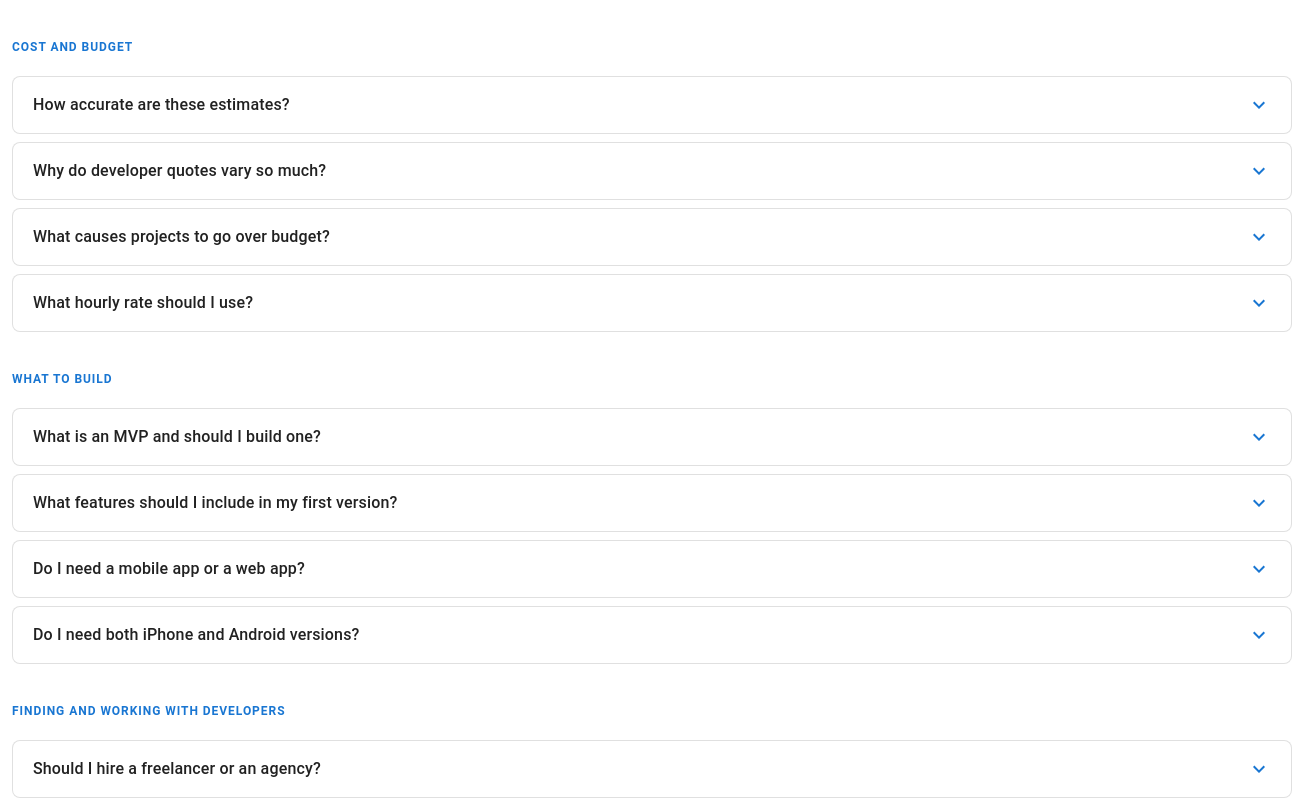
FaqContent › accordion expand behavior › clicking an expanded accordion summary button collapses it
Expand it
Step 1. Click the button "How accurate are these estimates?" → click(161, 104), box [13,77,1291,133]
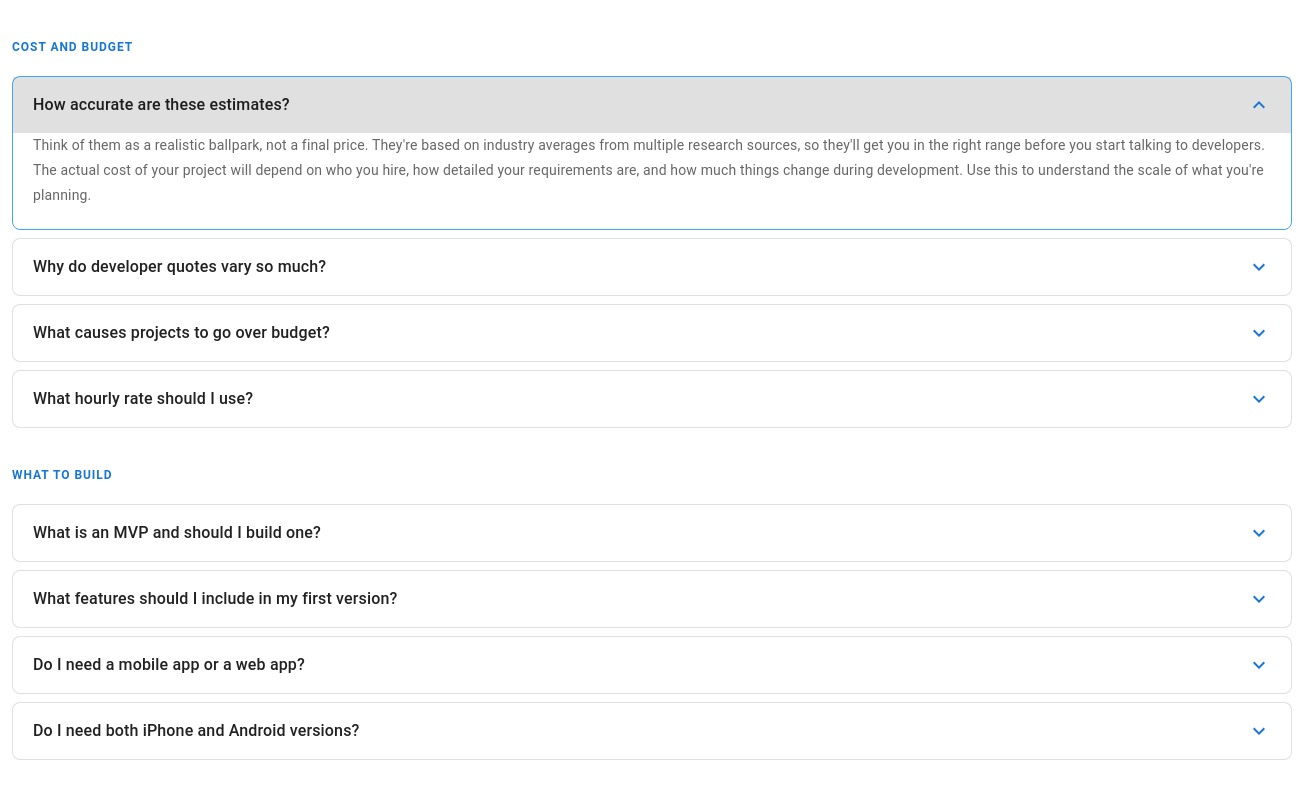
Check: the button "How accurate are these estimates?" is expanded
Collapse it
Step 2. Click the button "How accurate are these estimates?" → click(161, 104), box [13,77,1291,133]
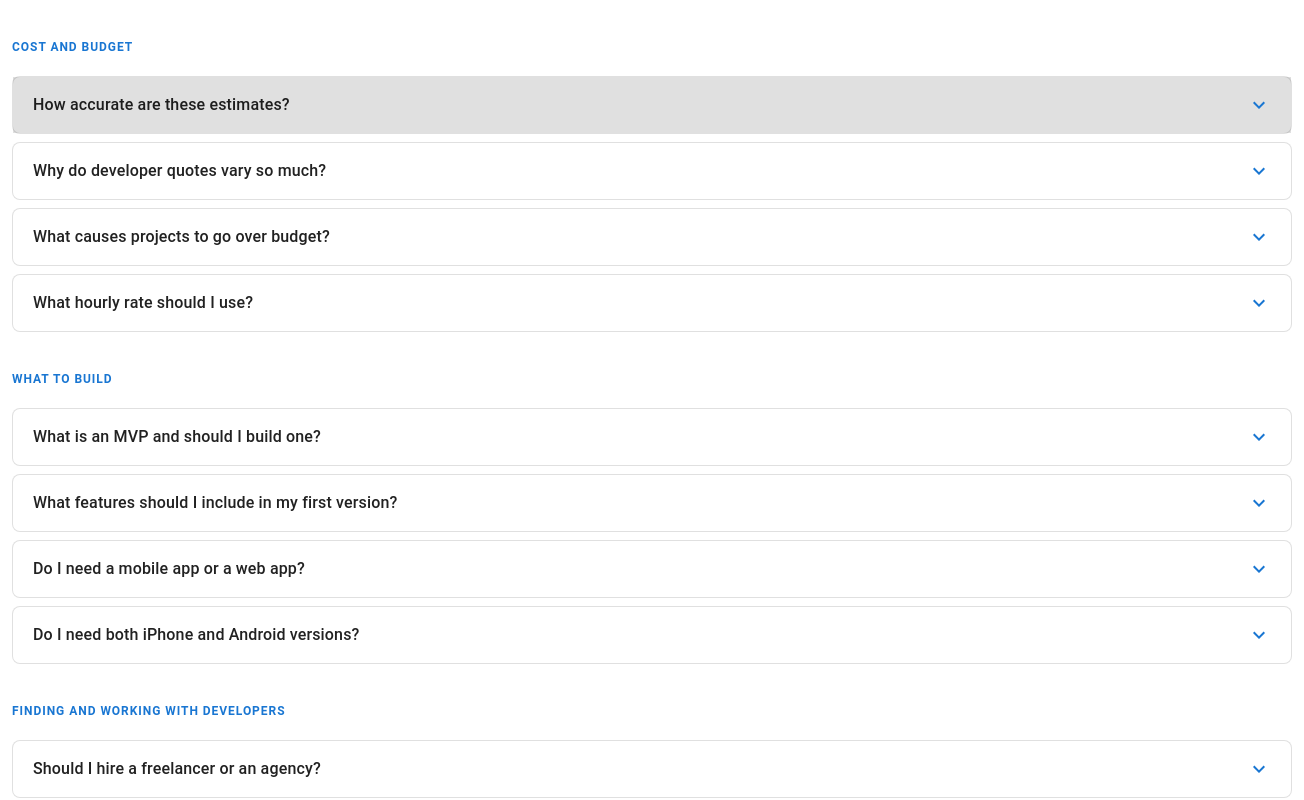
Check: the button "How accurate are these estimates?" is collapsed, box [13,77,1291,133]
